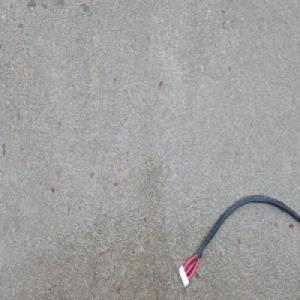Wire: (177, 192, 300, 288)
